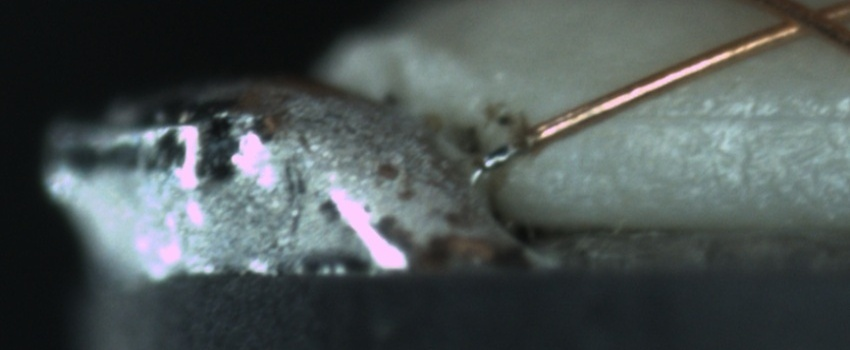CL: (757, 0, 843, 44)
DL: (614, 82, 844, 150)
TS: (474, 139, 524, 174)
TTCW: (478, 128, 538, 178)
